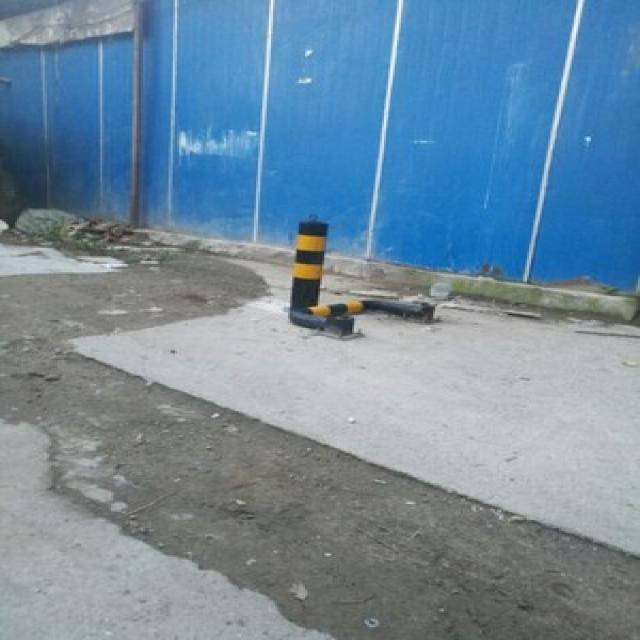warning_column: (282, 211, 328, 306)
